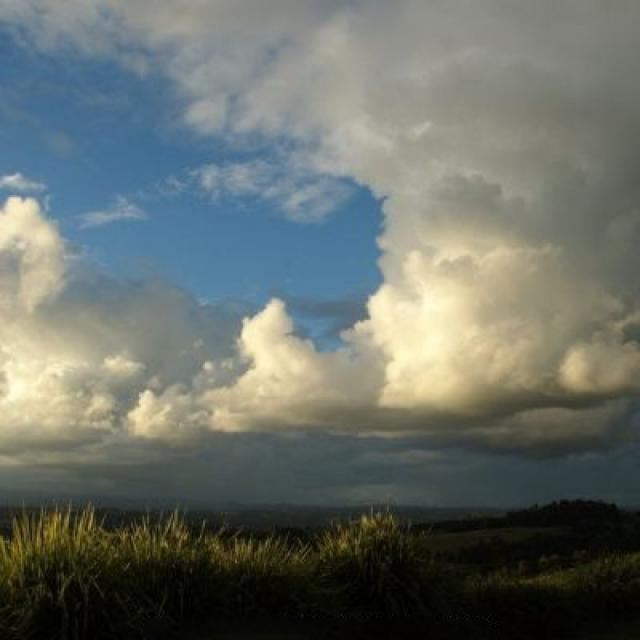Cu: (1, 75, 640, 440)
